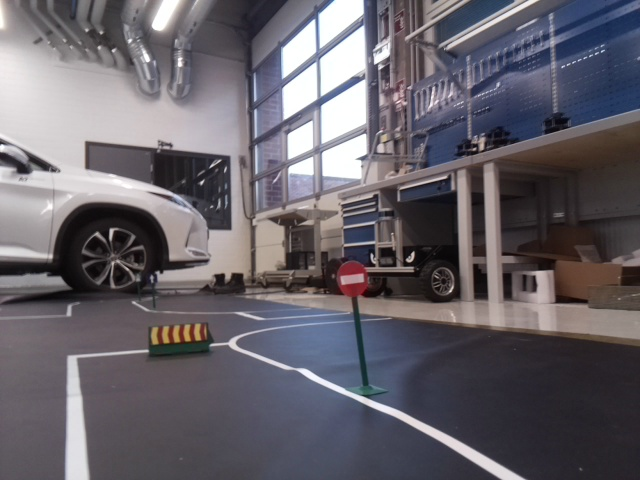ClosedRoadStand: (148, 324, 207, 342)
NoEntry: (337, 261, 369, 294)
